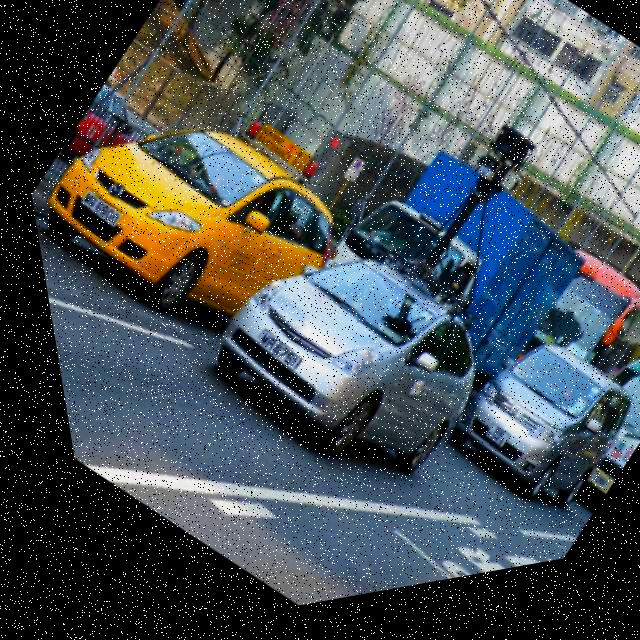license_plate: (237, 330, 296, 388), (68, 183, 124, 238), (456, 426, 500, 471), (563, 481, 596, 514)
